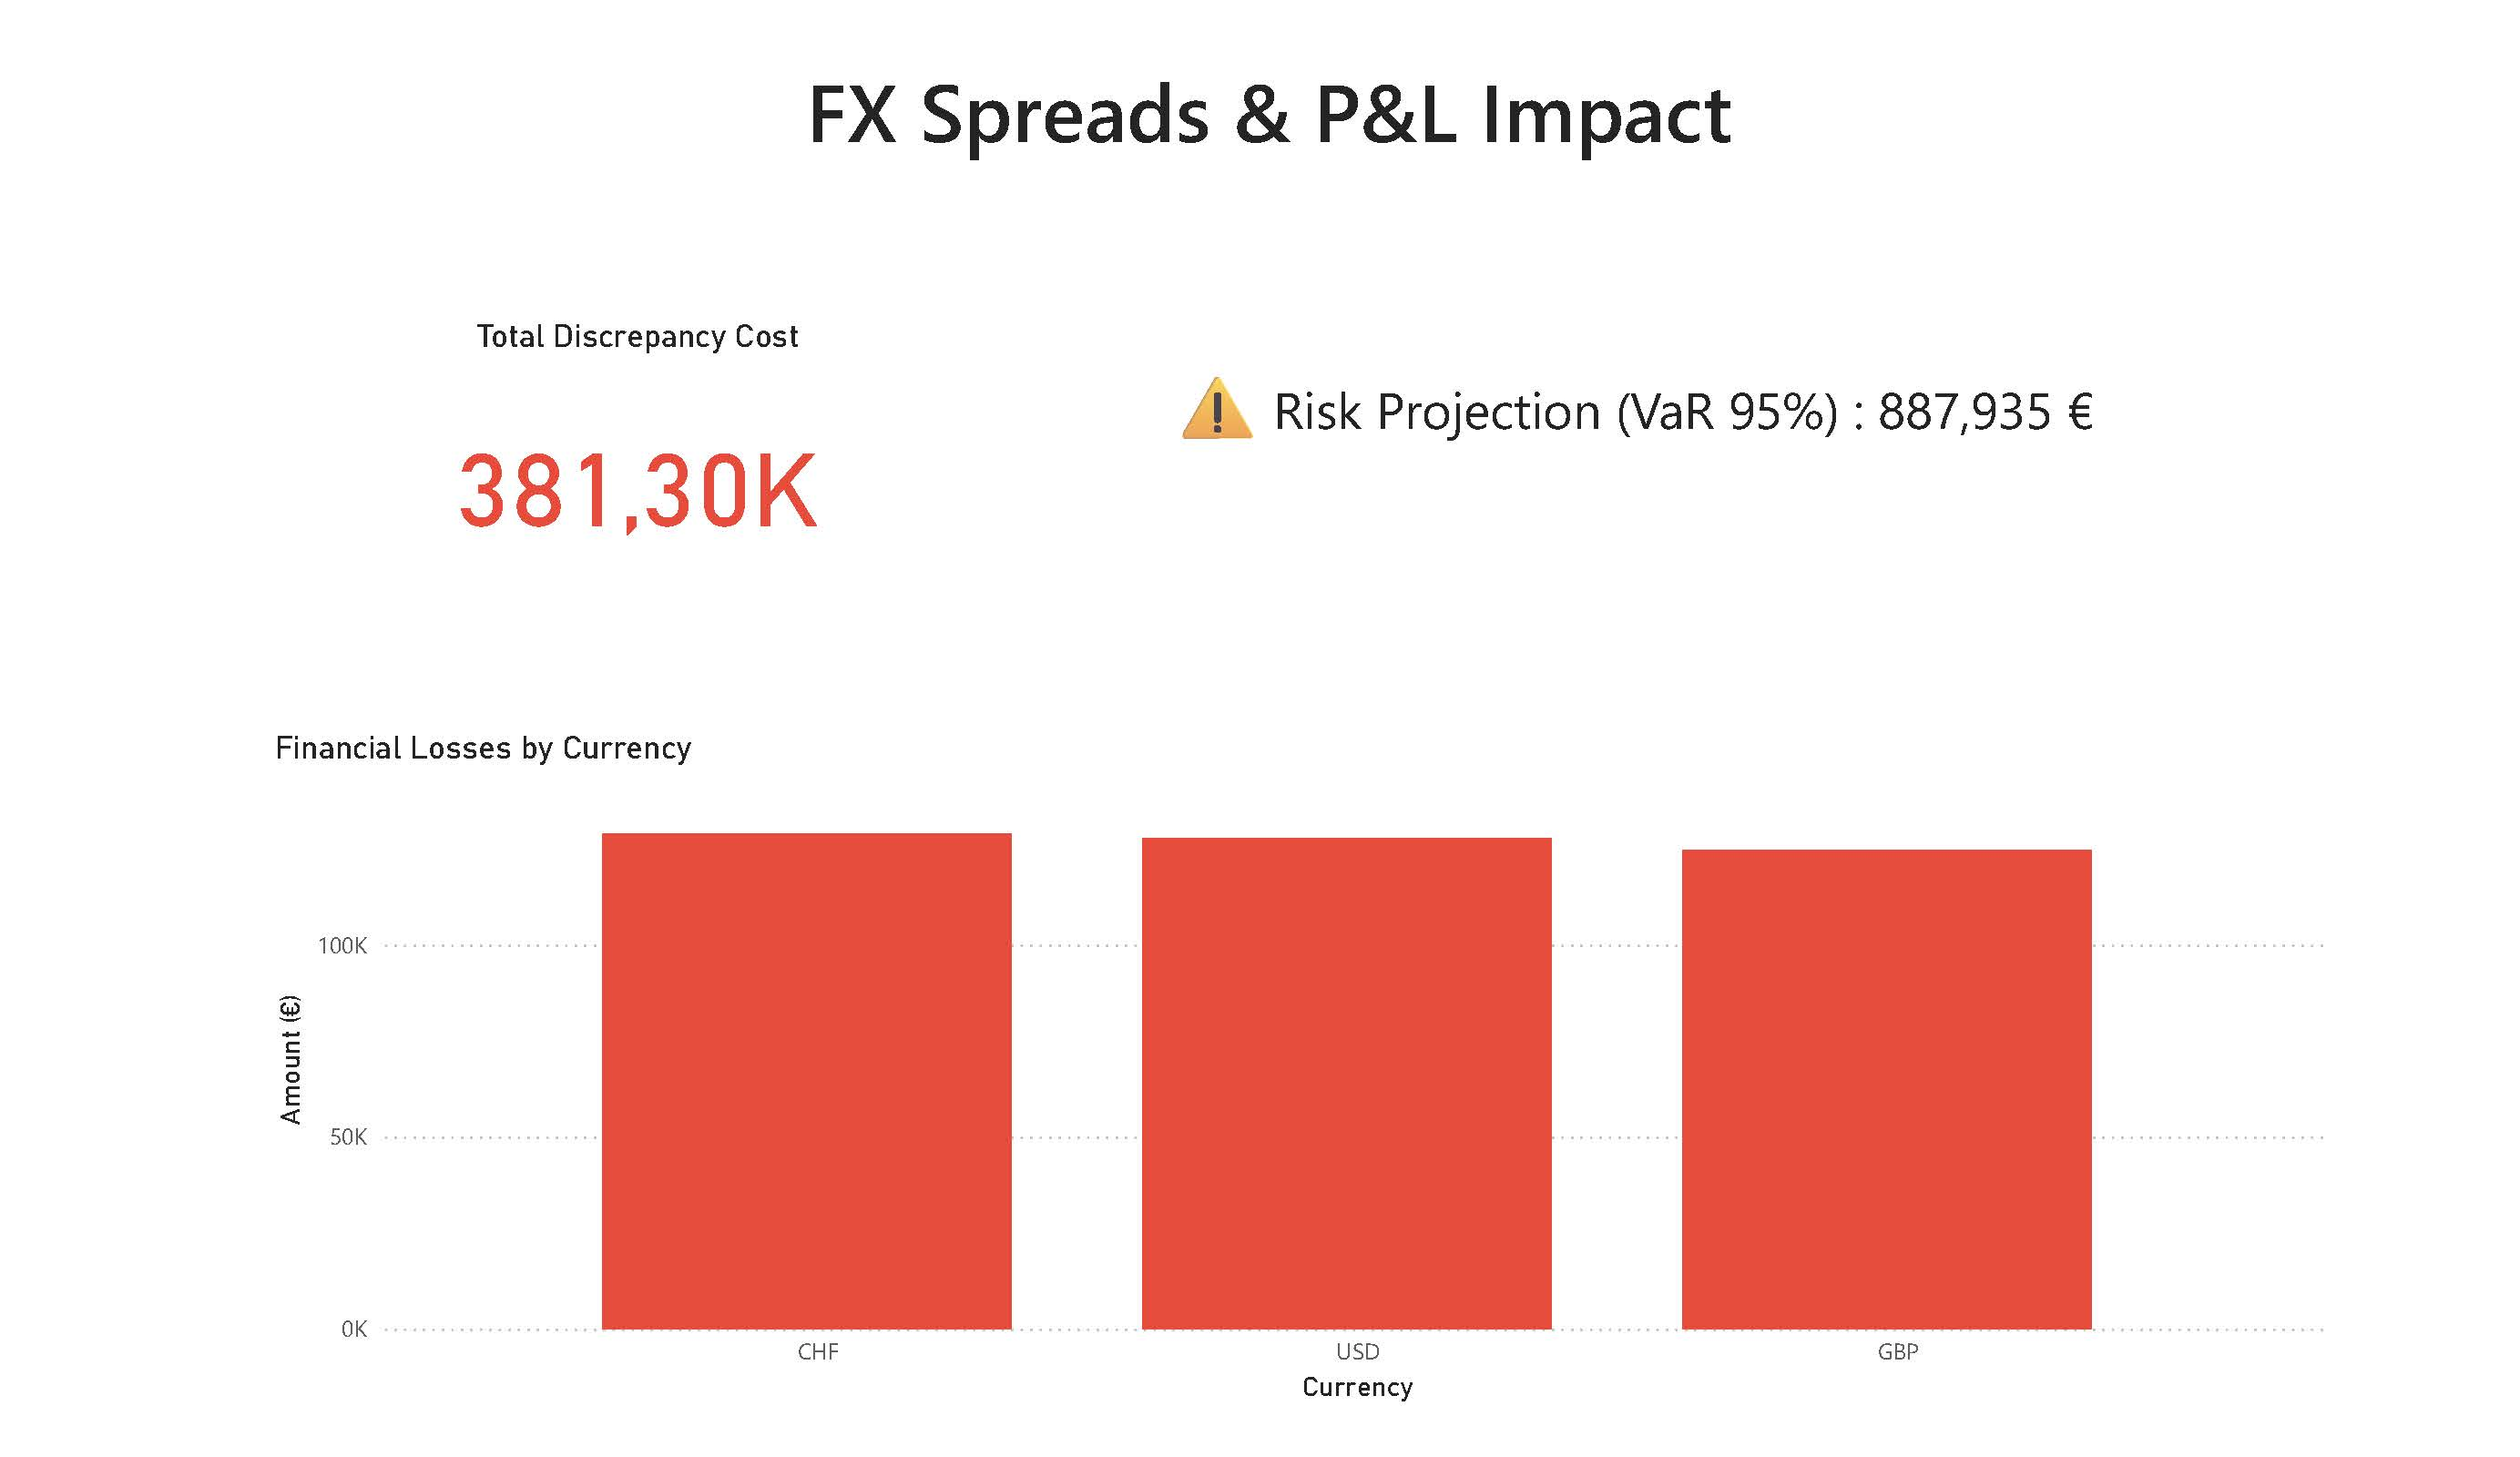

What the dashboard file says about the page in this screenshot:
{"tool":"powerbi","page":{"name":"FINANCIAL IMPACT","canvas":[1280,720],"ordinal":1},"visuals":[{"type":"textbox","box":[9.8,0,1270.1,67.1],"z":0},{"type":"card","title":"Total Discrepancy Cost","fields":{"Values":["Sum(final_global_report.pnl_impact_eur)"]},"box":[136.3,142.7,351.8,150.1],"z":1000},{"type":"columnChart","title":"Financial Losses by Currency","fields":{"Category":["final_global_report.currency_A"],"Y":["Sum(final_global_report.pnl_impact_eur)"]},"box":[116,360.1,1093.1,360.1],"z":1001},{"type":"textbox","box":[586.6,157.5,507.4,84.7],"z":1002}]}

Visuals, with their boxes on the page's 1280x720 design canvas (x1, y1, x2, y2). These are canvas units, not pixel positions in the 2520x1457 screenshot, which may show the page scaled, cropped or inside an application window:
textbox: l=10, t=0, r=1280, b=67
"Total Discrepancy Cost" card: l=136, t=143, r=488, b=293
"Financial Losses by Currency" columnChart: l=116, t=360, r=1209, b=720
textbox: l=587, t=158, r=1094, b=242
